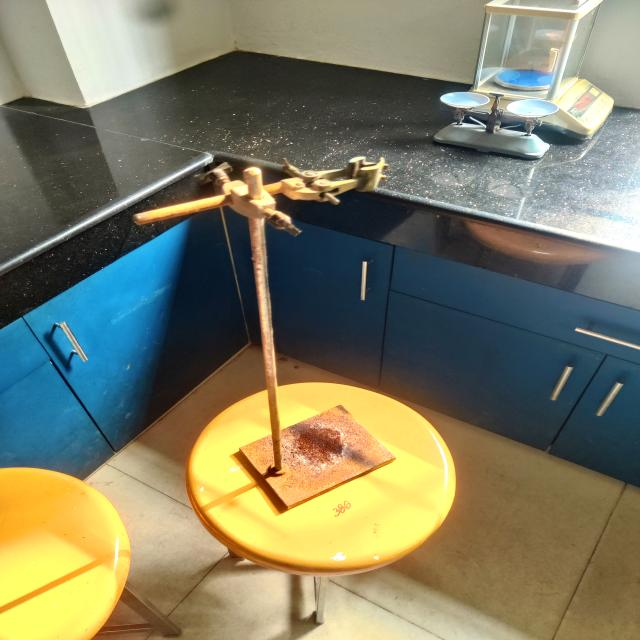Burette_Stands: (106, 128, 424, 554)
